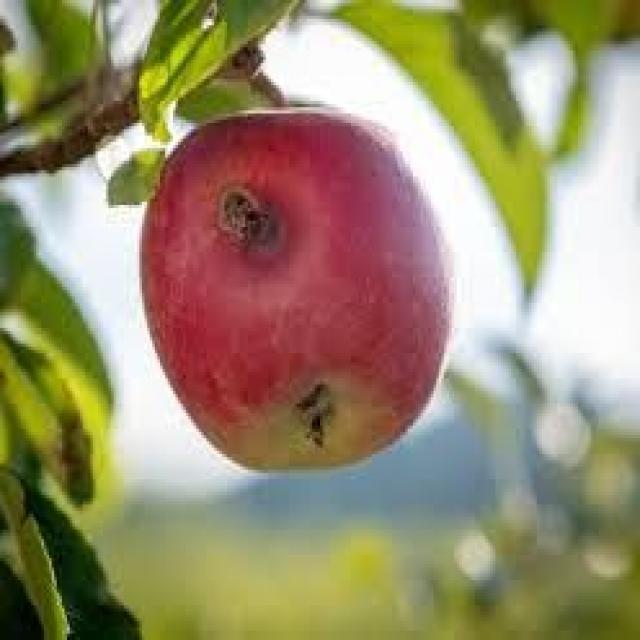Rotten: (140, 110, 457, 483)
